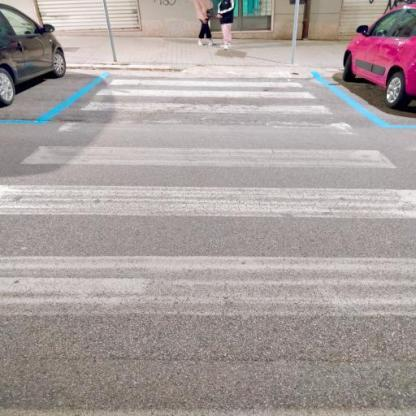crosswalk: (19, 118, 403, 179), (93, 76, 320, 102)
